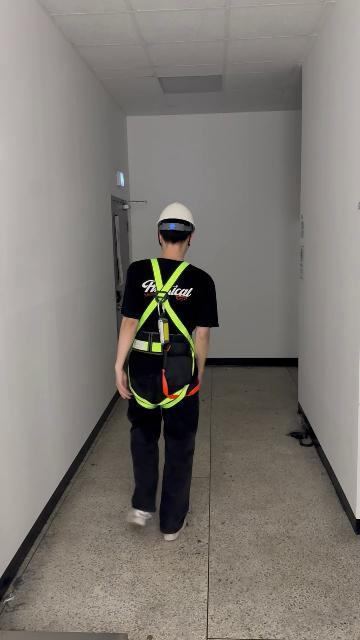helmet_worn: (157, 201, 196, 230)
shoe_not_worn: (163, 517, 187, 541), (127, 507, 154, 527)
vest_worn: (126, 265, 199, 406)
